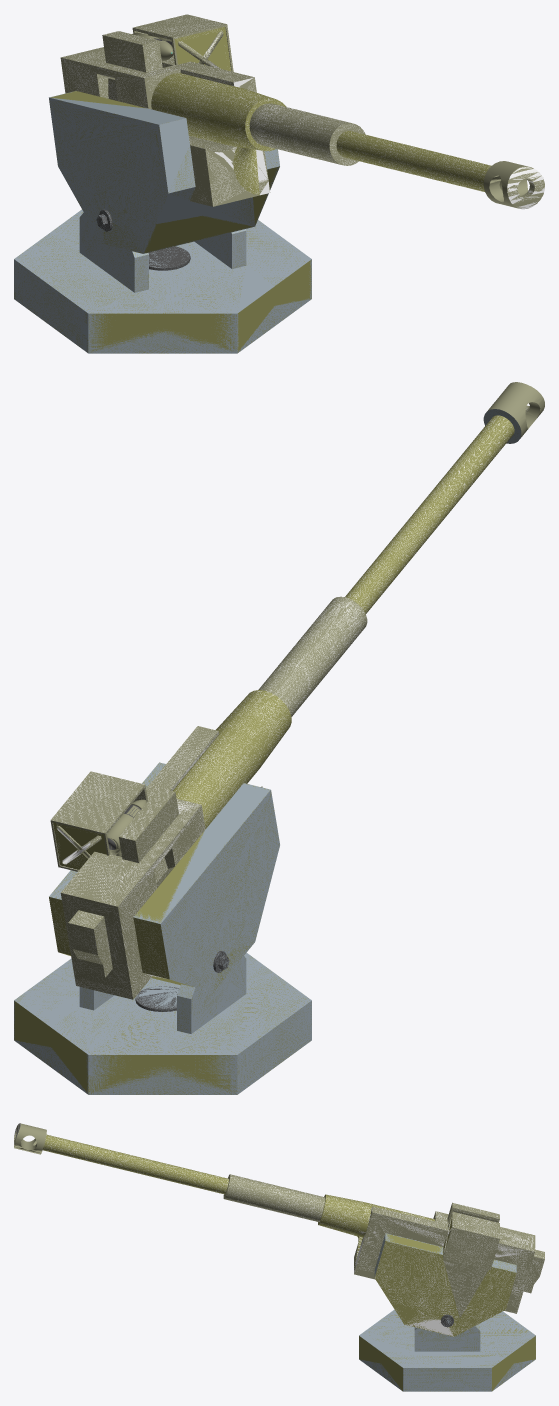
File: Gun.obj
The picture shows the model from 3 angles, top to bottom: view 1: azimuth 30°, elevation 25°; view 2: azimuth 150°, elevation 25°; view 3: azimuth 270°, elevation 25°; orthographic projection. The views are drawn at different scales.
Visible parts, largest first — view 1: Mesh10 Group2 Artillery_Cannon1 Model, Mesh1 Group1 Artillery_Cannon1 Model, Mesh12 Group11 Artillery_Cannon1 Model; view 2: Mesh10 Group2 Artillery_Cannon1 Model, Mesh1 Group1 Artillery_Cannon1 Model, Mesh12 Group11 Artillery_Cannon1 Model, Mesh11 Group2 Artillery_Cannon1 Model; view 3: Mesh10 Group2 Artillery_Cannon1 Model, Mesh1 Group1 Artillery_Cannon1 Model, Mesh12 Group11 Artillery_Cannon1 Model.
Part boxes in pixels (left/top/right/bottom): Mesh10 Group2 Artillery_Cannon1 Model: left=49, top=14, right=544, bottom=253; Mesh1 Group1 Artillery_Cannon1 Model: left=14, top=209, right=311, bottom=353; Mesh12 Group11 Artillery_Cannon1 Model: left=14, top=210, right=311, bottom=353; Mesh10 Group2 Artillery_Cannon1 Model: left=49, top=382, right=544, bottom=999; Mesh1 Group1 Artillery_Cannon1 Model: left=14, top=951, right=311, bottom=1094; Mesh12 Group11 Artillery_Cannon1 Model: left=14, top=951, right=311, bottom=1094; Mesh11 Group2 Artillery_Cannon1 Model: left=68, top=910, right=112, bottom=977; Mesh10 Group2 Artillery_Cannon1 Model: left=14, top=1123, right=544, bottom=1336; Mesh1 Group1 Artillery_Cannon1 Model: left=359, top=1309, right=535, bottom=1391; Mesh12 Group11 Artillery_Cannon1 Model: left=359, top=1310, right=535, bottom=1391.
Size of the model in its own units: 0.4196 by 0.7085 by 1.45.
